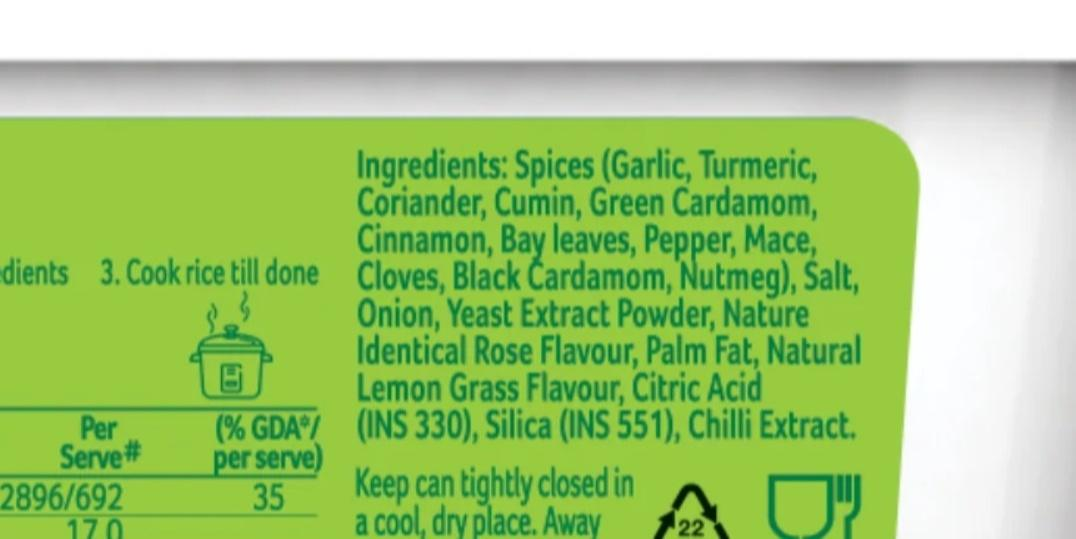ingredients: (338, 125, 895, 455)
